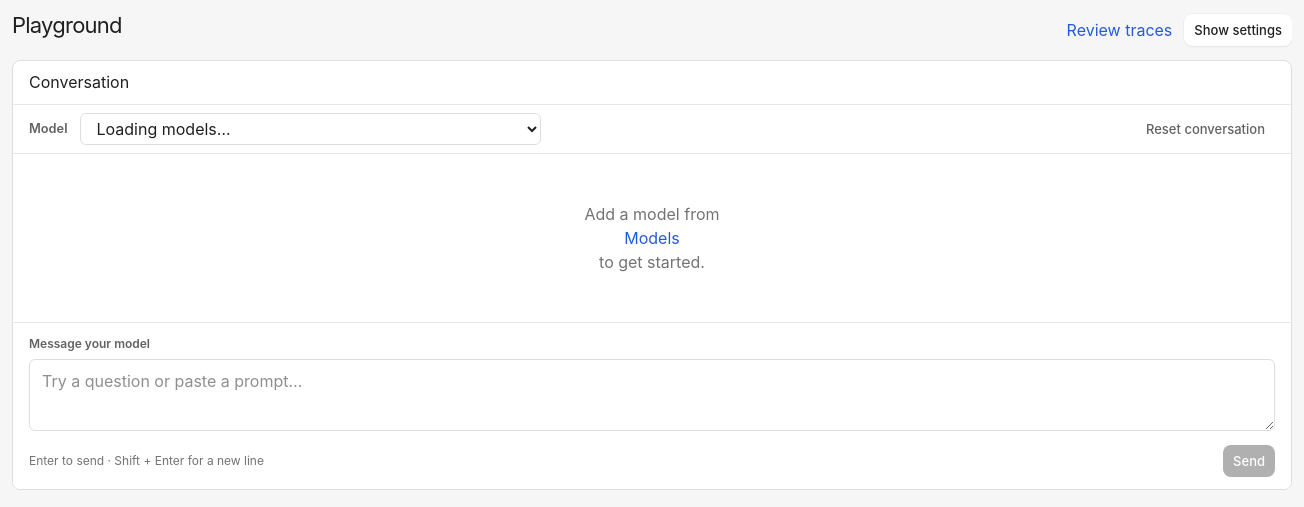
it: Playground inventory initialization is an owned state transition › preserves a prompt typed while the initial model inventory is pending
The width and height of the screenshot is (1304, 507).
In the text box labelled "Message your model": (652,395) x1=29 y1=359 x2=1275 y2=431, type "Prepared while inventory is loading"
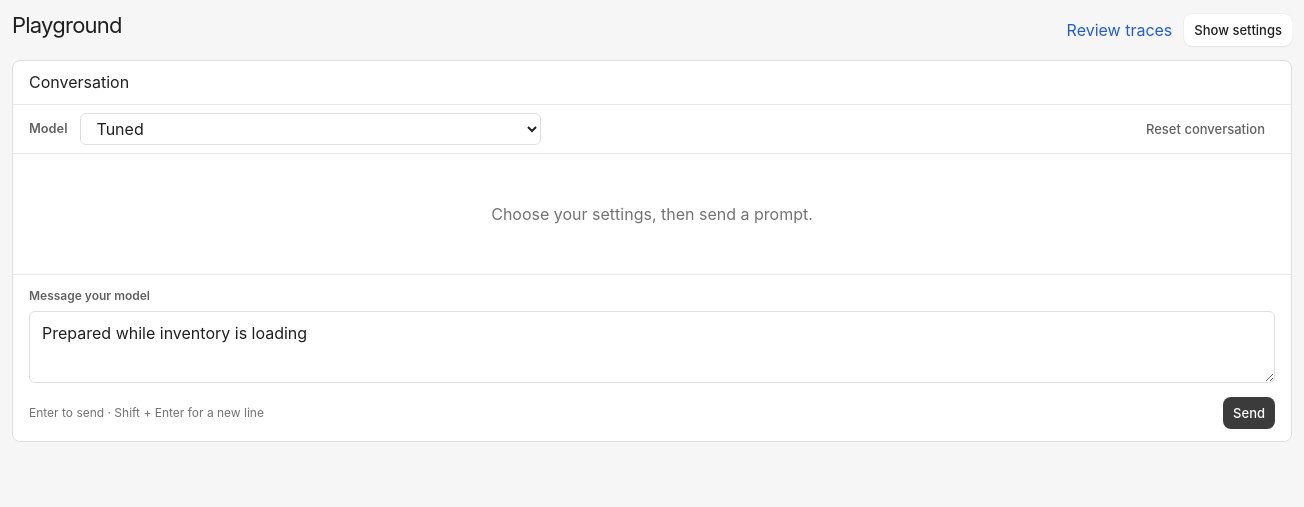
Check: the dropdown labelled "Model" shows "Tuned", box x1=80 y1=112 x2=541 y2=144
Check: the button "Send" is enabled, box x1=1223 y1=397 x2=1275 y2=429
